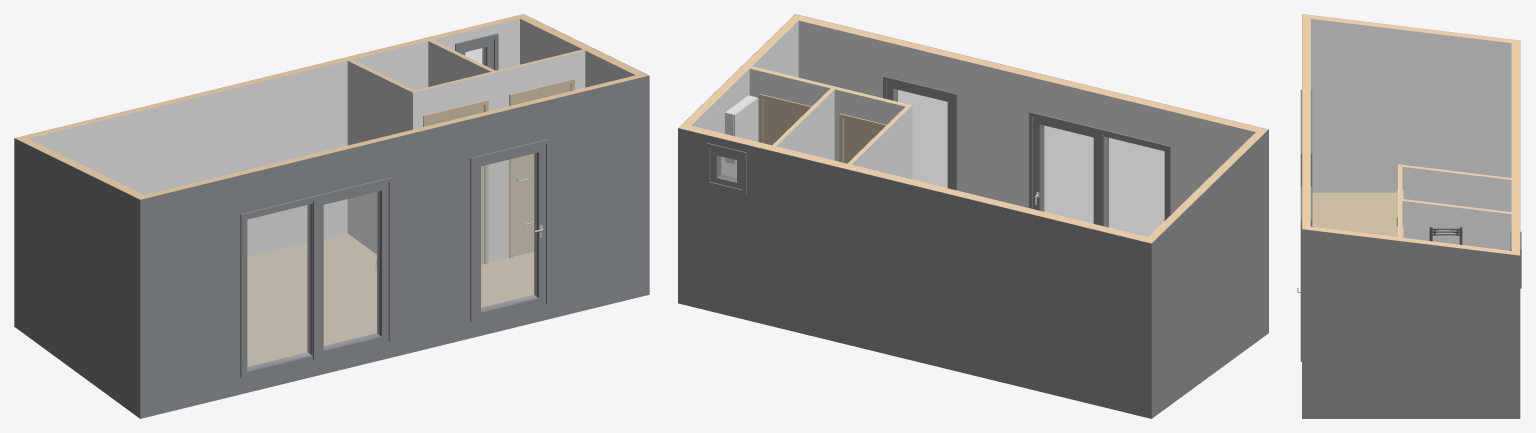
The model's file is mariuiv@yahoo.fbx.
The picture shows the model from 3 angles, left to right: view 1: azimuth 30°, elevation 25°; view 2: azimuth 150°, elevation 25°; view 3: azimuth 270°, elevation 25°; orthographic projection. The views are drawn at different scales.
Visible parts, largest first — view 1: IfcWall/Part:2319977, IfcWall/Part:2397154, IfcWall/Part:2755462, IfcSlab/Part:2319985, IfcDoor/Durys išorinės:1000x2100x120 (kairinės):2439432, IfcWindow/Langai (Akrusta):1000x2100x120 (dešininis):2750757, IfcWindow/Langai (Akrusta):1000x2100x120:2752540, IfcWall/Part:2755457, IfcWall/Part:2752153, IfcDoor/Durys vidinės:800x2100 x 120 (dešininės):2571469, IfcWall/Part:2397151, IfcWall/Part:2397156 (+6 smaller); view 2: IfcWall/Part:2397155, IfcWall/Part:2319976, IfcWall/Part:2755462, IfcWindow/Langai (Akrusta):1000x2100x120 (dešininis):2750757, IfcWindow/Langai (Akrusta):1000x2100x120:2752540, IfcDoor/Durys išorinės:1000x2100x120 (kairinės):2439432, IfcWall/Part:2397151, IfcWall/Part:2397156, IfcWall/Part:2319978, IfcWall/Part:2752153, IfcWall/Part:2570674, IfcWall/Part:2755458 (+8 smaller); view 3: IfcWall/Part:2397152, IfcWall/Part:2755461, IfcWall/Part:2570673, IfcWall/Part:2752152, IfcSlab/Part:2319985, IfcWall/Part:2319978, IfcWall/Part:2397156, IfcWall/Part:2397153, IfcWall/Part:2755463, IfcDoor/Durys išorinės:1000x2100x120 (kairinės):2439432, IfcWall/Part:2397155, IfcWindow/Langai (Akrusta):1000x2100x120 (dešininis):2750757 (+4 smaller).
Boxes of the visible parts, x1,y1,x2,y2 form: IfcWall/Part:2319977: (140,75,649,418); IfcWall/Part:2397154: (28,18,519,257); IfcWall/Part:2755462: (14,138,139,418); IfcSlab/Part:2319985: (247,233,533,366); IfcDoor/Durys išorinės:1000x2100x120 (kairinės):2439432: (470,139,550,321); IfcWindow/Langai (Akrusta):1000x2100x120 (dešininis):2750757: (307,177,393,360); IfcWindow/Langai (Akrusta):1000x2100x120:2752540: (240,195,320,377); IfcWall/Part:2755457: (413,50,585,262); IfcWall/Part:2752153: (347,61,413,254); IfcDoor/Durys vidinės:800x2100 x 120 (dešininės):2571469: (509,78,574,258); IfcWall/Part:2397151: (520,18,635,87); IfcWall/Part:2397156: (15,14,527,140); IfcWall/Part:2397155: (678,128,1151,418); IfcWall/Part:2319976: (798,20,1255,214); IfcWall/Part:2755462: (1152,129,1268,418); IfcWindow/Langai (Akrusta):1000x2100x120 (dešininis):2750757: (1029,112,1108,226); IfcWindow/Langai (Akrusta):1000x2100x120:2752540: (1096,128,1170,236); IfcDoor/Durys išorinės:1000x2100x120 (kairinės):2439432: (883,76,957,190); IfcWall/Part:2397151: (691,20,798,178); IfcWall/Part:2397156: (679,124,1155,243); IfcWall/Part:2319978: (799,16,1267,133); IfcWall/Part:2752153: (851,105,912,179); IfcWall/Part:2570674: (776,89,834,160); IfcWall/Part:2755458: (749,68,830,141); IfcWall/Part:2397152: (1302,229,1519,418); IfcWall/Part:2755461: (1310,18,1511,192); IfcWall/Part:2570673: (1402,200,1511,250); IfcWall/Part:2752152: (1402,166,1511,212); IfcSlab/Part:2319985: (1312,192,1396,236); IfcWall/Part:2319978: (1302,14,1310,226); IfcWall/Part:2397156: (1512,39,1519,255); IfcWall/Part:2397153: (1302,225,1511,254); IfcWall/Part:2755463: (1310,15,1511,42); IfcDoor/Durys išorinės:1000x2100x120 (kairinės):2439432: (1300,187,1311,361); IfcWall/Part:2397155: (1520,40,1520,418); IfcWindow/Langai (Akrusta):1000x2100x120 (dešininis):2750757: (1300,120,1312,226).
Bounding box in the file's own units: 700 × 288 × 309.
